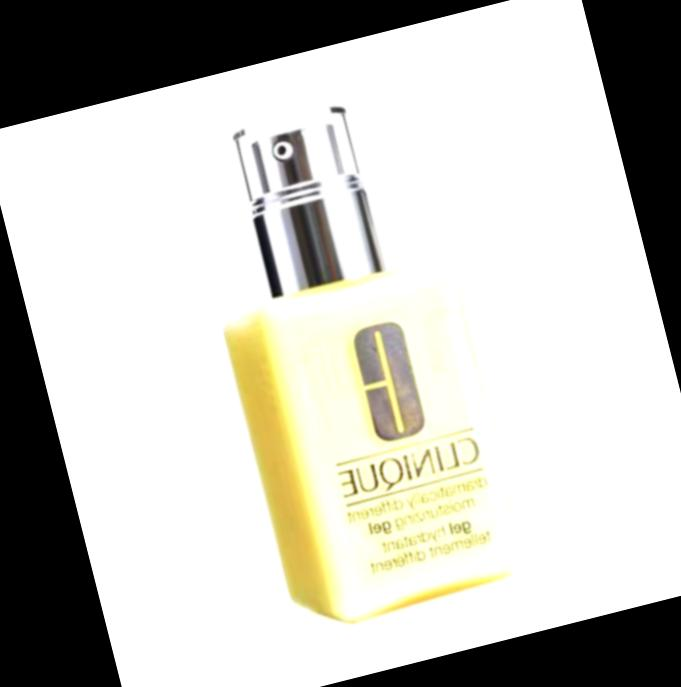cosmetic: (173, 79, 532, 632)
